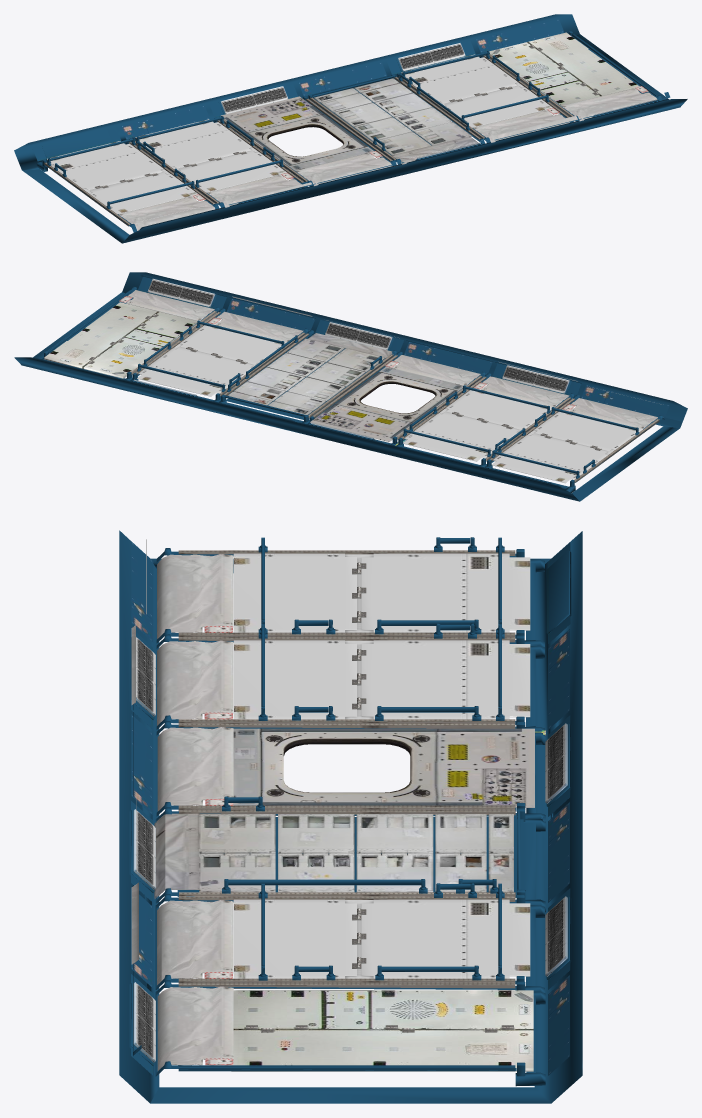
Rendered from US_Lab_ISS_quarter.dae.
3 renders of one model, top to bottom at view 1: azimuth 30°, elevation 25°; view 2: azimuth 150°, elevation 25°; view 3: azimuth 270°, elevation 25°, orthographic. The views are drawn at different scales.
Parts seen in each view (by area): view 1: Mesh; view 2: Mesh; view 3: Mesh.
Part boxes in pixels (box(x1,y1,x2,y2)): Mesh: box(14, 14, 687, 243); Mesh: box(14, 272, 687, 501); Mesh: box(119, 530, 582, 1103).
Bounding box in the file's own units: 6.72 × 0.2373 × 2.42.
Materials: 13 (13 with a texture image).
